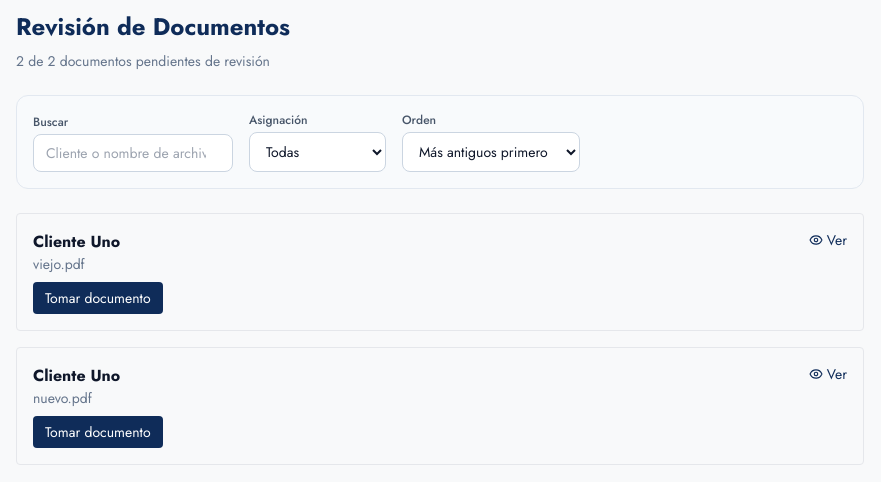
Test: AgentDocumentsPanel › ordena por más recientes primero
Expected: the text "viejo.pdf" is shown, [33,254,85,274]
Expected: the elements ".pdf" read "viejo.pdf", "nuevo.pdf", in this order, [33,254,85,274]; [33,388,92,408]
Select "Más recientes primero" in the dropdown labelled "Orden" at (491, 152), box [402,132,580,172]
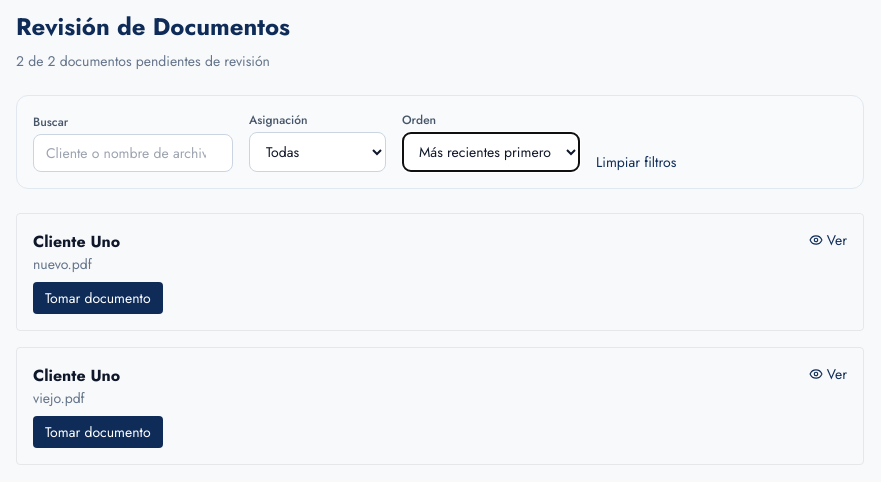
Result: the elements ".pdf" read "nuevo.pdf", "viejo.pdf", in this order at [33,254,92,274]; [33,388,85,408]
